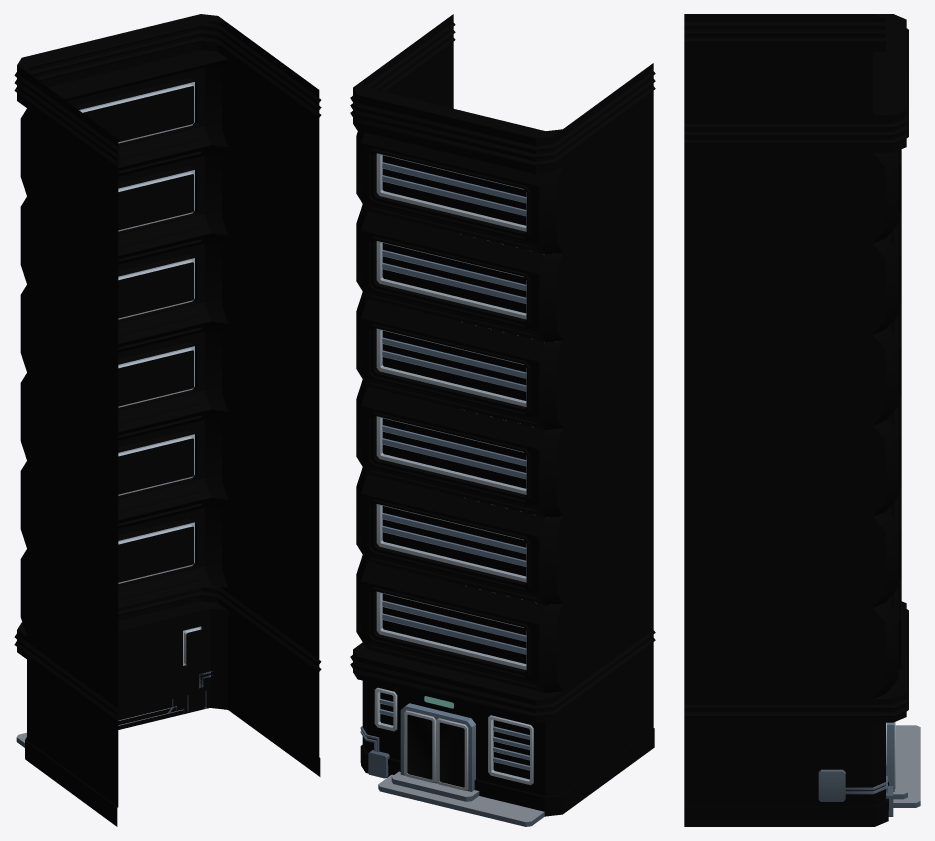
Rendered from Ciudad_Edificio_01.FBX.
3 views of the same model, side by side, from view 1: azimuth 30°, elevation 25°; view 2: azimuth 150°, elevation 25°; view 3: azimuth 270°, elevation 25° (orthographic). The views are drawn at different scales.
Visible parts, largest first — view 1: Ciudad_Edificio_01; view 2: Ciudad_Edificio_01; view 3: Ciudad_Edificio_01.
Boxes of the visible parts, <box> form: Ciudad_Edificio_01: <box>14,14,321,826</box>; Ciudad_Edificio_01: <box>350,14,655,826</box>; Ciudad_Edificio_01: <box>684,14,920,826</box>.
Size of the model in its own units: 949 by 906 by 3007.
